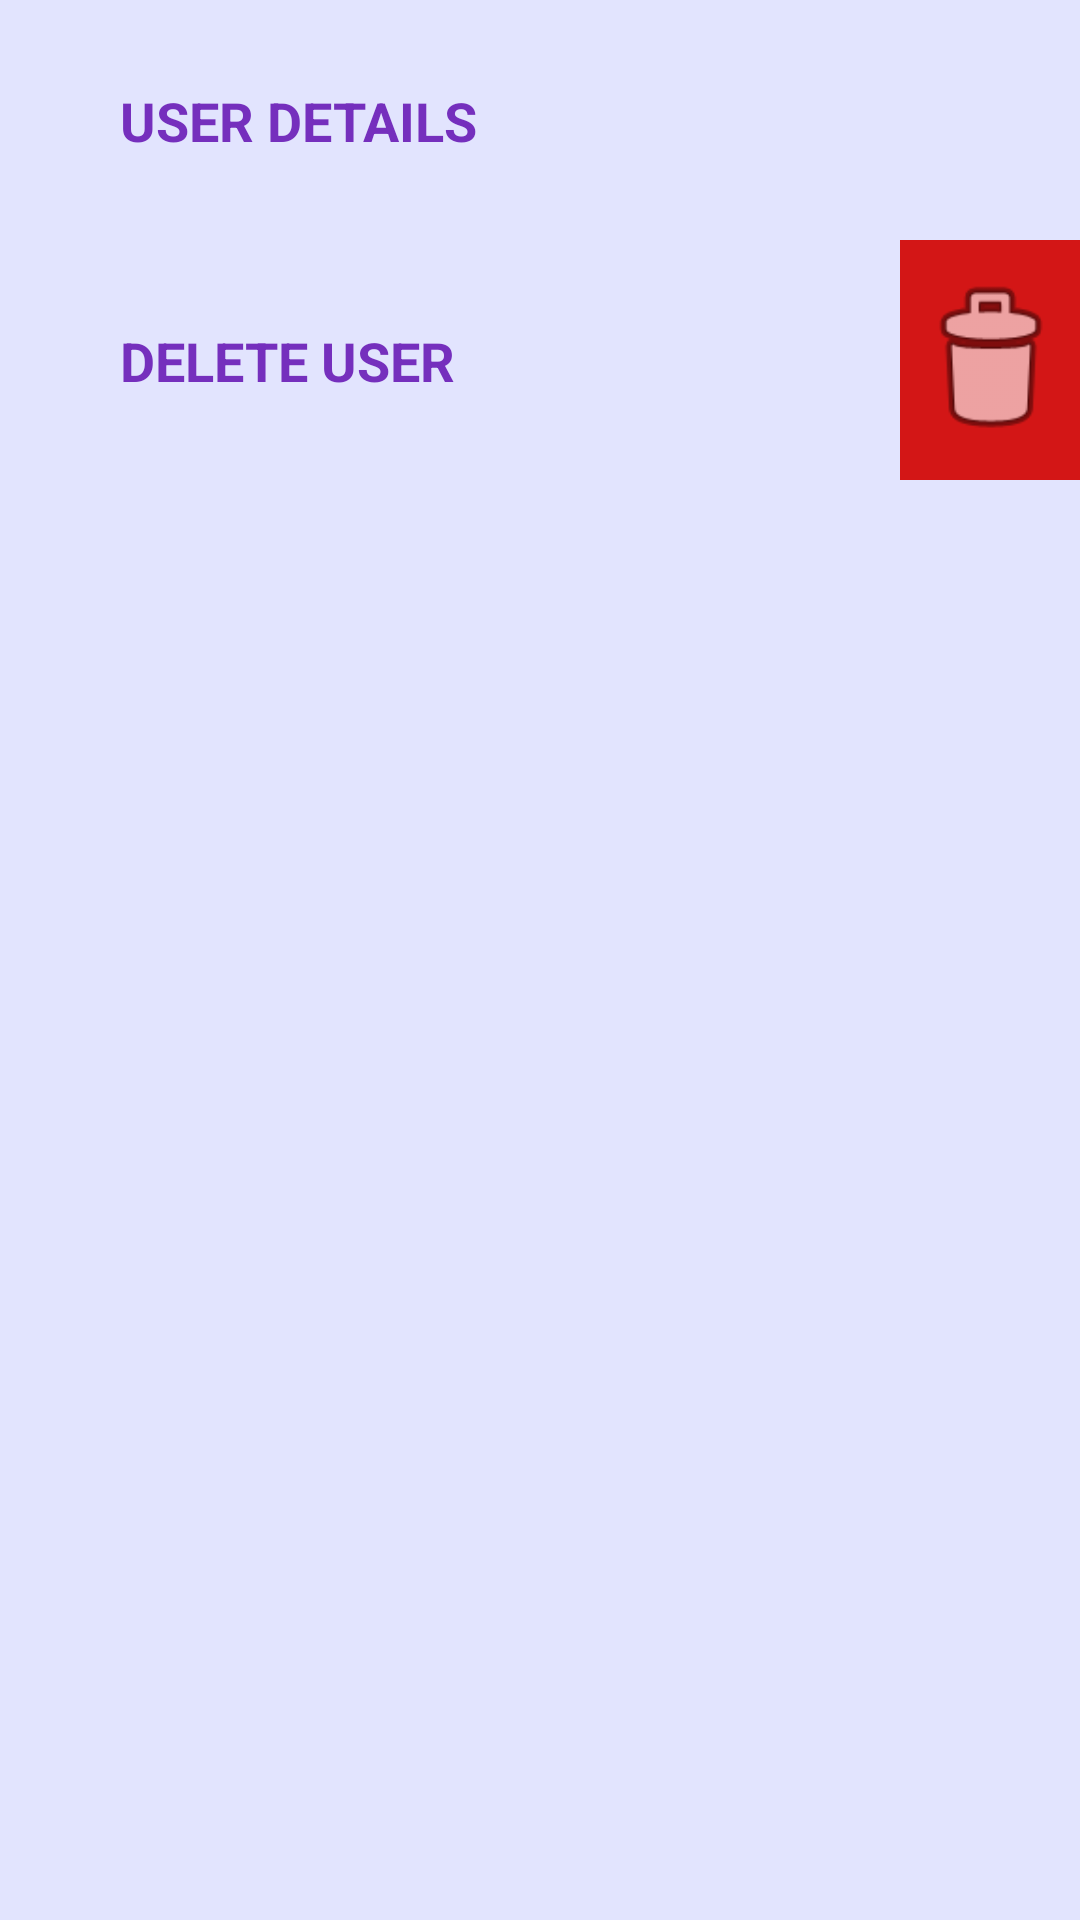

Where to tap for icons on this 1080w x 1920h app screen, as (x=x, y=y):
delete: (x=990, y=360)
